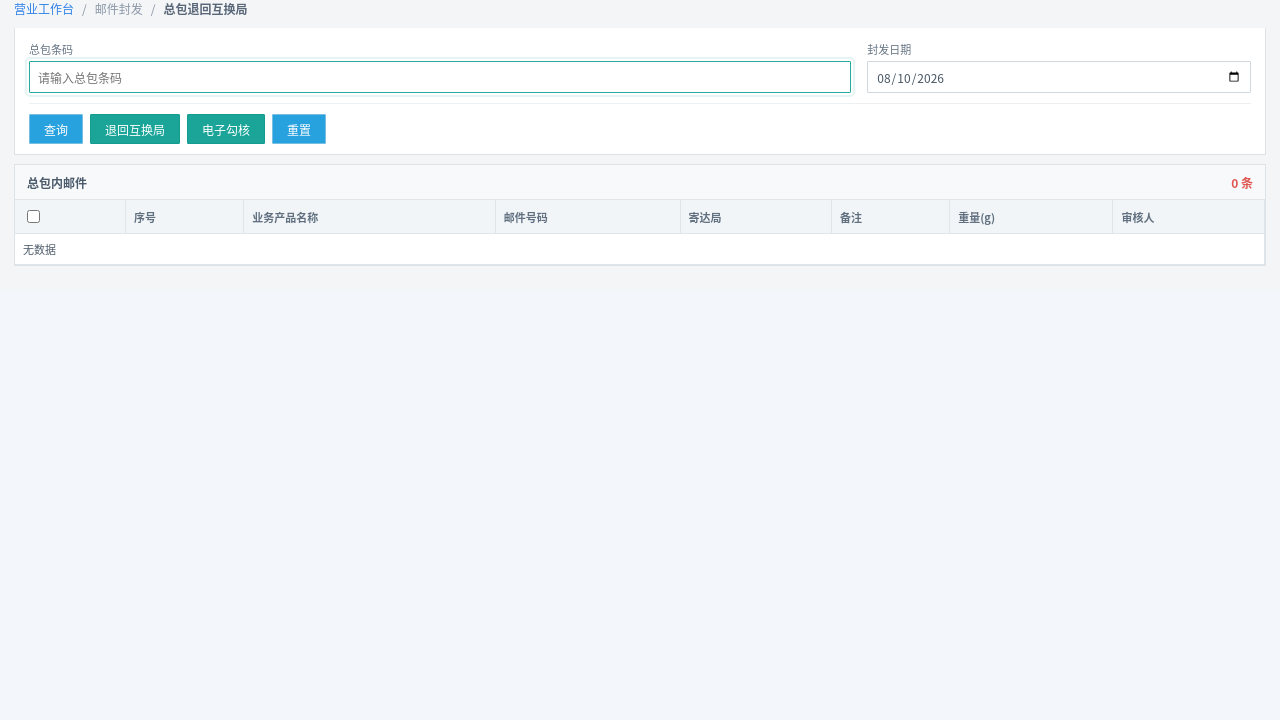
Scenario: DispatchBagInterchangeReturnWorkspace › queries, electronically checks and returns an exported bag after excluding a problem mail
This screenshot has width=1280, height=720.
Type "990101202608105010100000000001" into the field named "退回总包条码". click: (440, 77)
box: left=29, top=61, right=851, bottom=93
Click the button "查询". click: (56, 129)
box: left=29, top=114, right=83, bottom=144
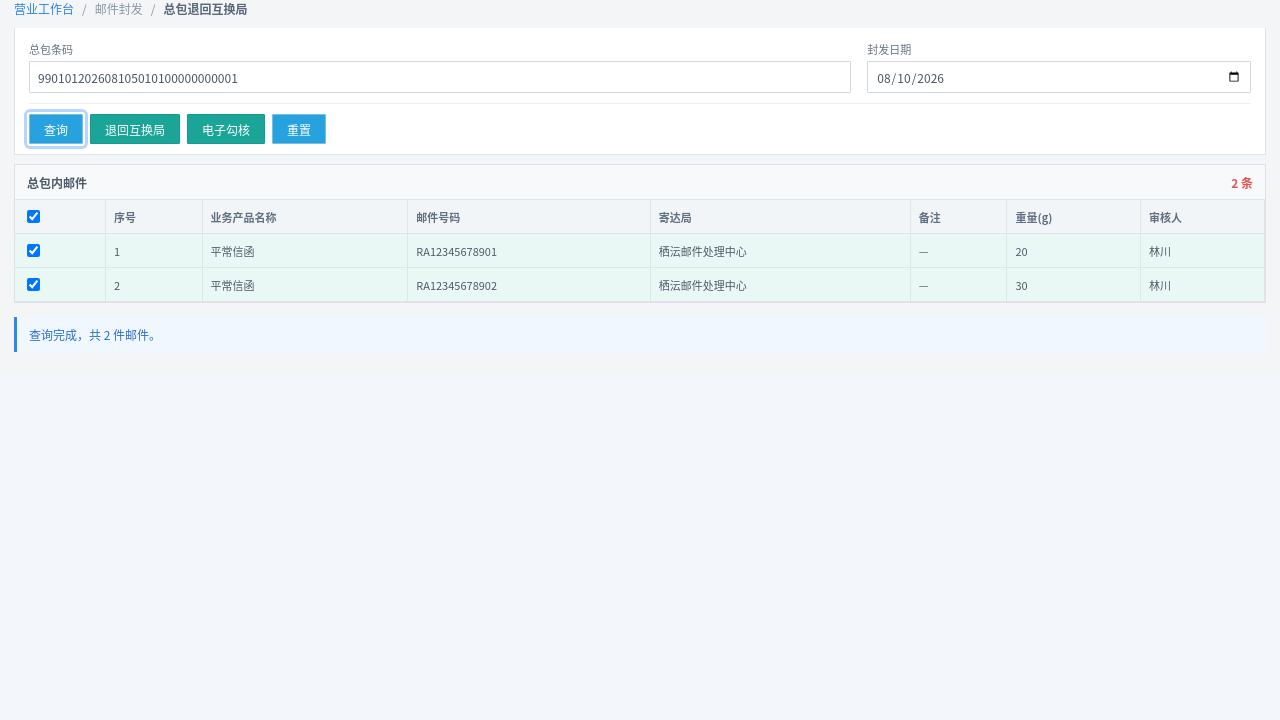
expect the text "RA12345678901" is shown: met, box left=408, top=234, right=650, bottom=268
expect the text "RA12345678902" is shown: met, box left=408, top=268, right=650, bottom=302
Click the button "电子勾核". click: (226, 129)
box: left=187, top=114, right=265, bottom=144
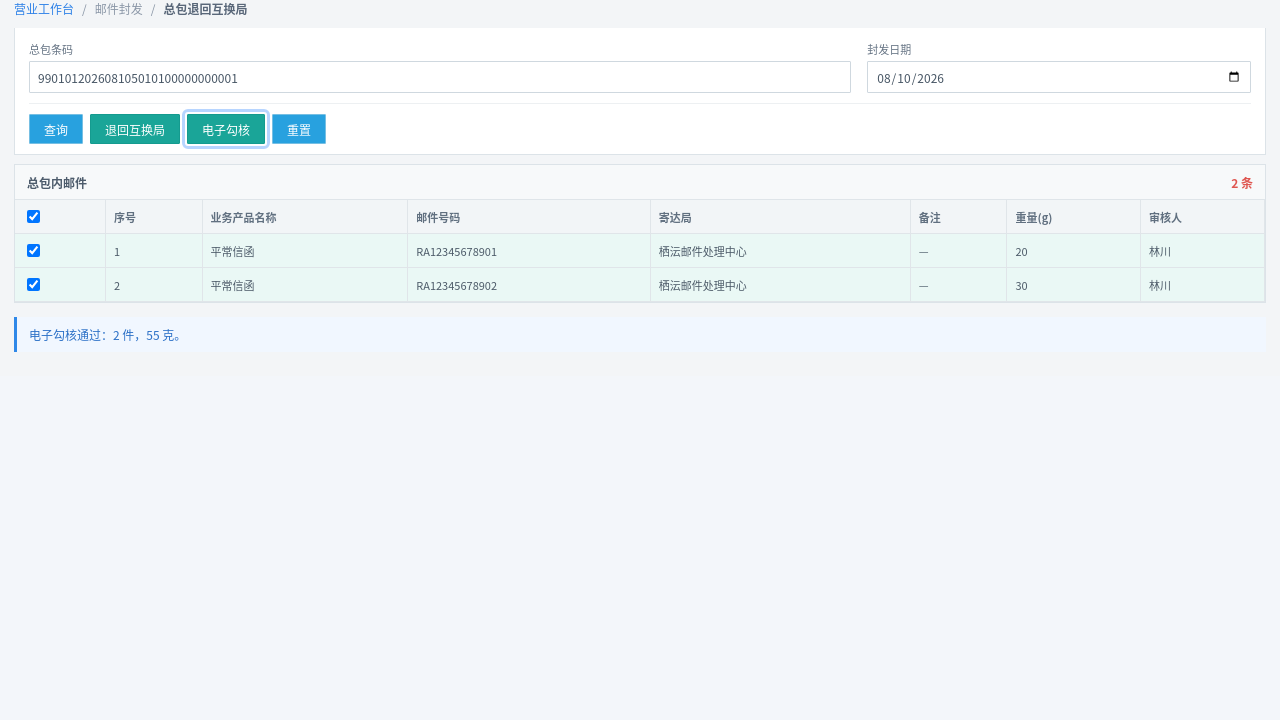
expect the message shows "电子勾核通过：2 件，55 克": met, box left=29, top=326, right=186, bottom=343
Click the checkbox named "选择邮件 RA12345678902". click: (34, 284)
box: left=27, top=278, right=40, bottom=291
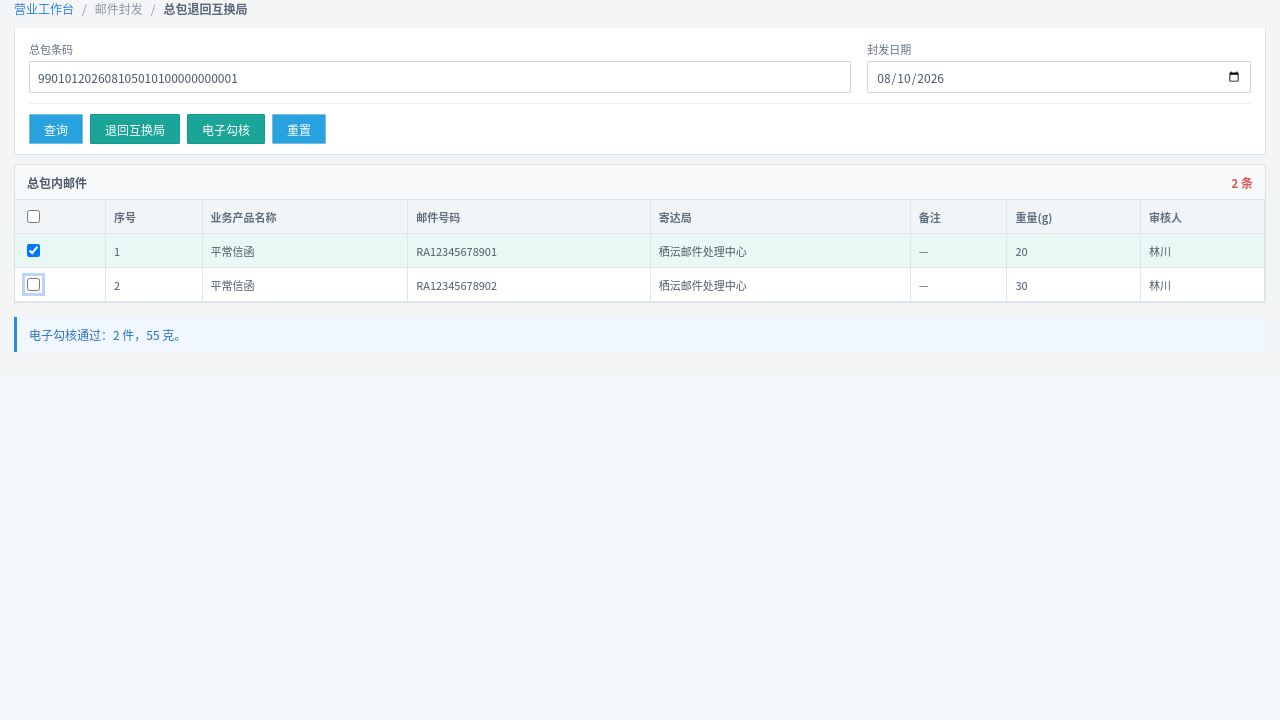
Click the button "退回互换局". click: (135, 129)
box: left=90, top=114, right=180, bottom=144
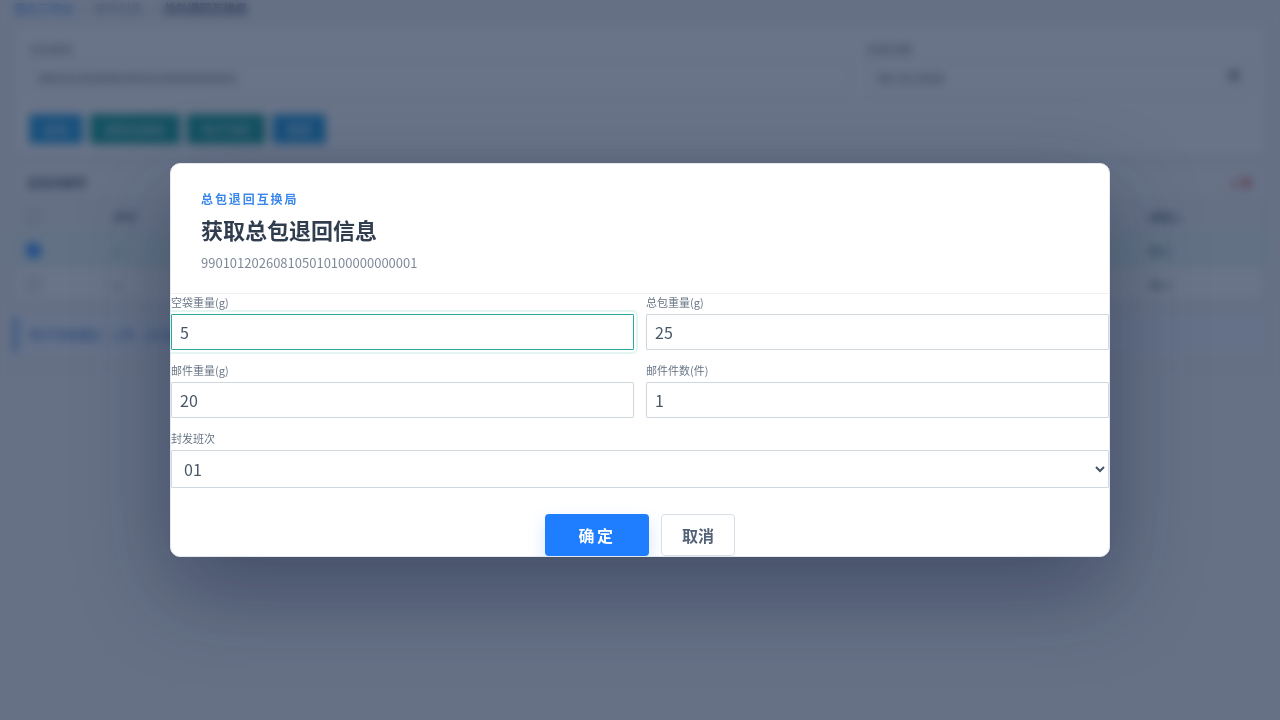
expect the field labelled "邮件重量" holds "20": met, box left=171, top=382, right=634, bottom=418
expect the field labelled "邮件件数" holds "1": met, box left=646, top=382, right=1109, bottom=418
expect the field labelled "总包重量" holds "25": met, box left=646, top=314, right=1109, bottom=350
Select "02" in the dropdown named "退回封发班次". click: (640, 469)
box: left=171, top=450, right=1109, bottom=488
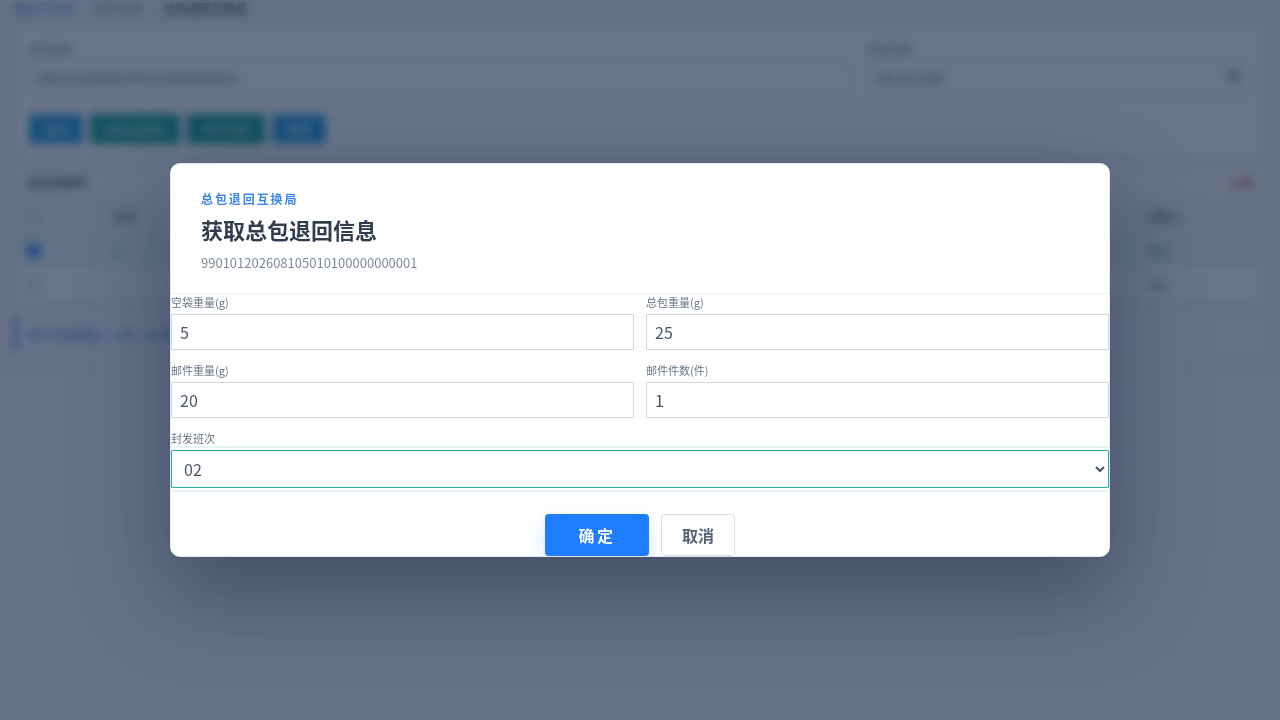
Click the button "确定". click: (597, 535)
box: left=545, top=514, right=649, bottom=556
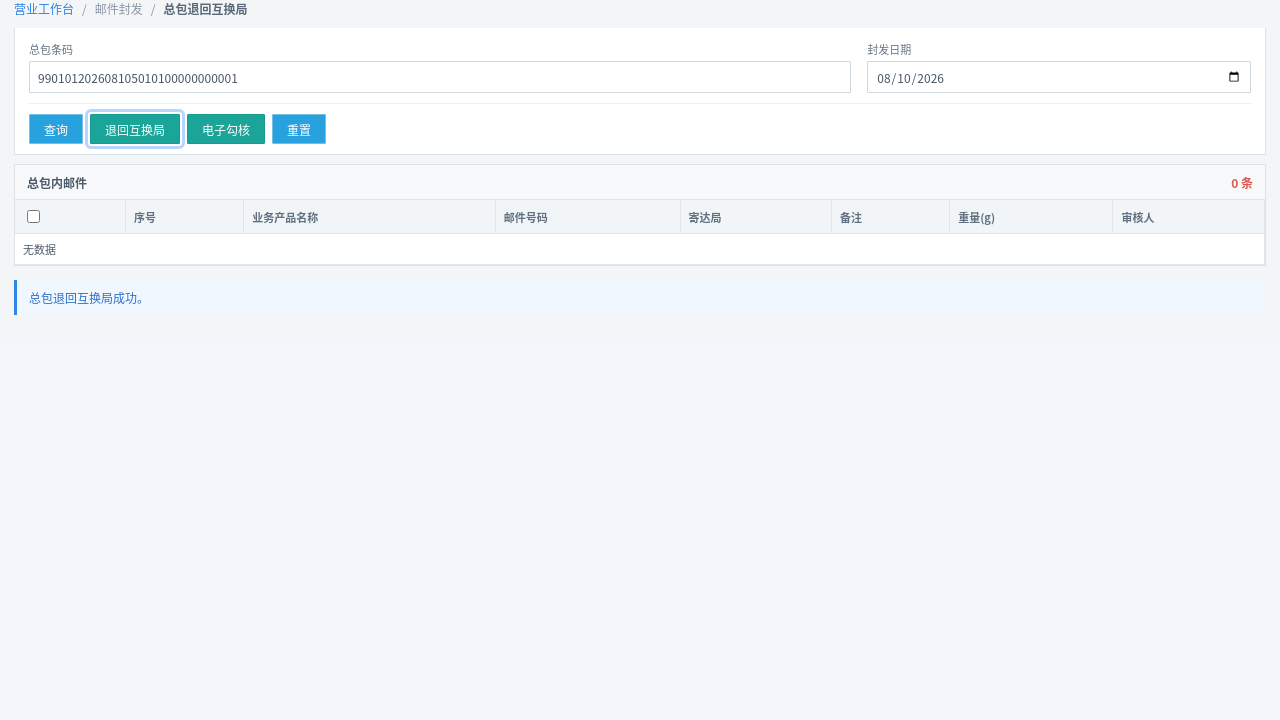
expect the message shows "总包退回互换局成功": met, box left=29, top=289, right=149, bottom=306
